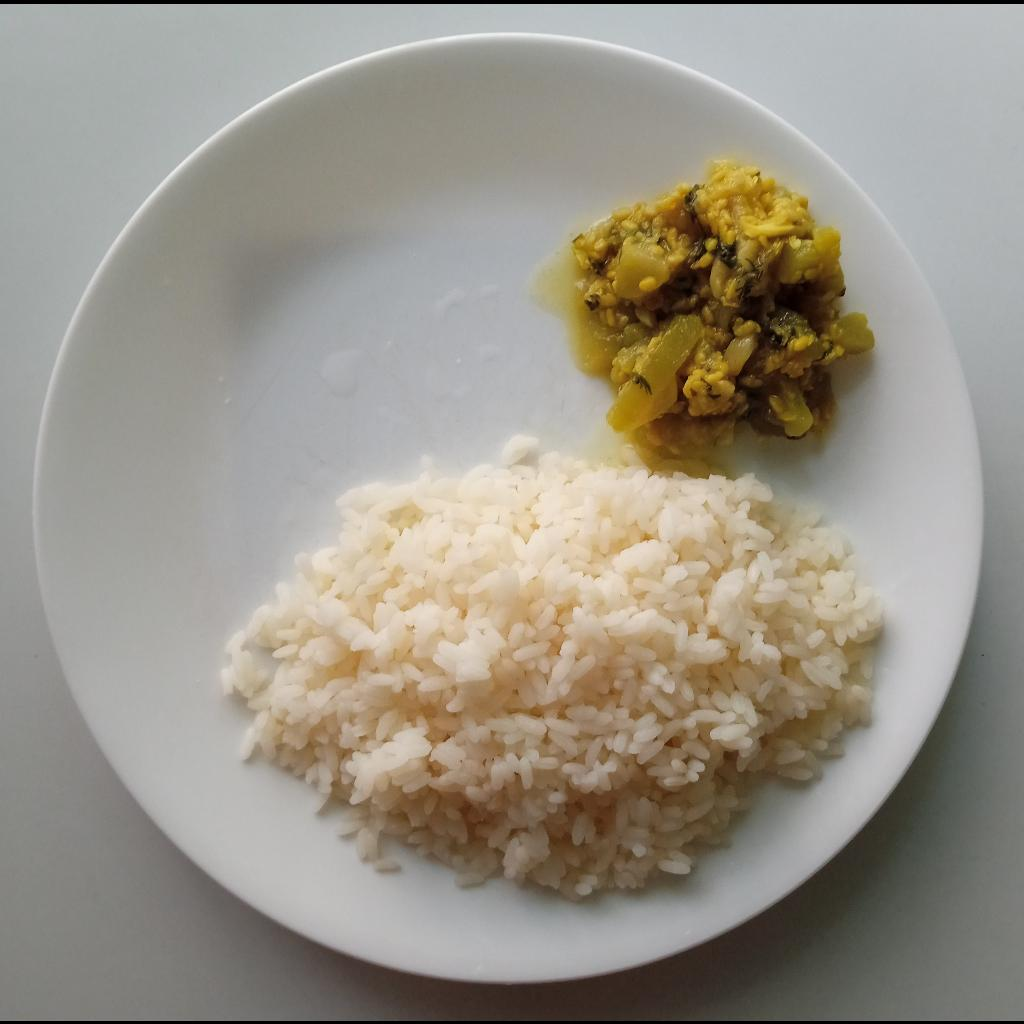lau: (574, 160, 875, 478)
rice: (219, 442, 888, 904)
